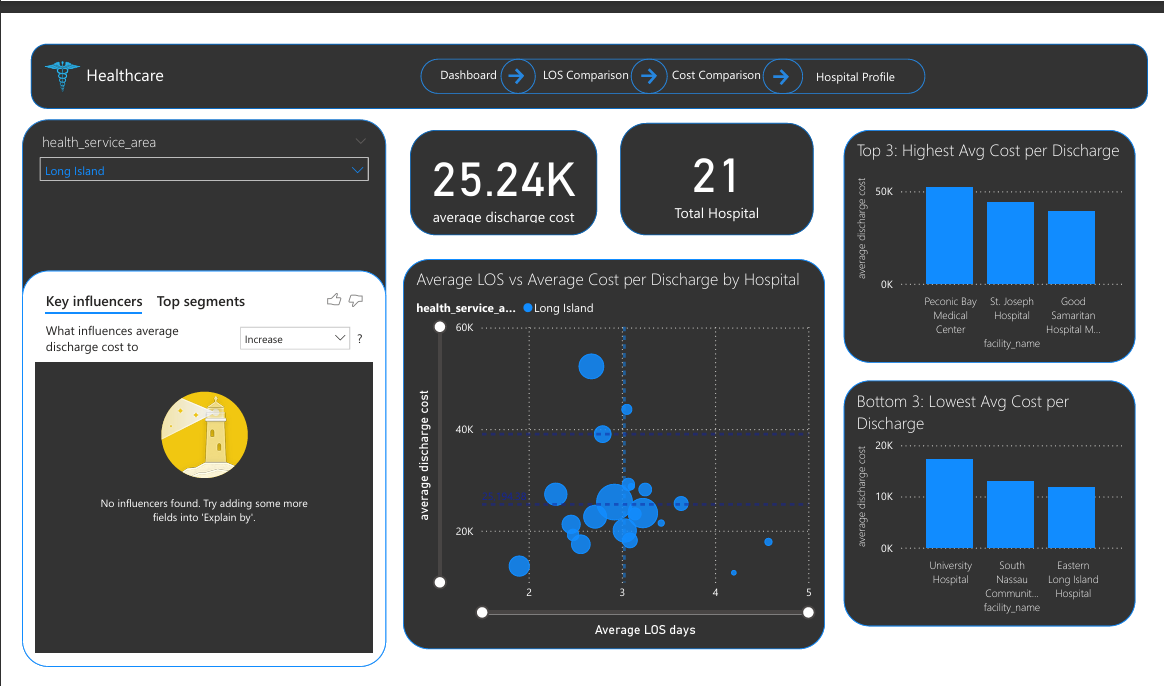

This screenshot's page, from the dashboard's own definition file:
{"tool":"powerbi","page":{"name":"Cost Comparison","canvas":[1280,720],"ordinal":2},"visuals":[{"type":"columnChart","title":"Top 3: Highest Avg Cost per Discharge","fields":{"Category":["hospital_inpatient_discharges_totalhipreplacement.facility_name"],"Y":["measure.average discharge cost"]},"box":[934.3,108.6,331.4,265.7],"z":0},{"type":"shape","box":[10,11,1270,74],"z":1000},{"type":"textbox","box":[68.2,28.2,131.2,38.8],"z":2000},{"type":"textbox","box":[448,32,123,45],"z":3000},{"type":"textbox","box":[571,32,140,40],"z":4000},{"type":"textbox","box":[718.8,32,141.6,40],"z":5000},{"type":"textbox","box":[876.7,34.2,141.7,40],"z":6000},{"type":"actionButton","box":[453,28,131,40],"z":7000},{"type":"actionButton","box":[544,28,190,40],"z":8000},{"type":"actionButton","box":[691.7,28.3,196.7,40],"z":9000},{"type":"actionButton","box":[841.7,28.3,185,40],"z":10000},{"type":"actionButton","box":[548.5,35,39.6,26.2],"z":11000},{"type":"actionButton","box":[699.5,35.3,39.5,25.8],"z":12000},{"type":"actionButton","box":[848.9,35.8,39.5,25.8],"z":13000},{"type":"slicer","fields":{"Values":["hospital_inpatient_discharges_totalhipreplacement.health_service_area"]},"box":[0,97.1,414.3,622.9],"z":14000},{"type":"image","box":[4.5,9.1,82.7,80],"z":15000},{"type":"keyDriversVisual","fields":{"Target":["measure.average discharge cost"],"ExplainBy":["hospital_inpatient_discharges_totalhipreplacement.Age Band","hospital_inpatient_discharges_totalhipreplacement.apr_risk_of_mortality","hospital_inpatient_discharges_totalhipreplacement.apr_severity_of_illness_description","hospital_inpatient_discharges_totalhipreplacement.health_service_area","hospital_inpatient_discharges_totalhipreplacement.ccs_diagnosis_description","surgical_program_size_summary.Surgical_program_size","hospital_inpatient_discharges_totalhipreplacement.gender","hospital_inpatient_discharges_totalhipreplacement.patient_disposition"]},"box":[0,268.6,414.3,451.4],"z":16000},{"type":"scatterChart","title":"Average LOS vs Average Cost per Discharge by Hospital","fields":{"X":["measure.Average LOS days"],"Category":["hospital_inpatient_discharges_totalhipreplacement.facility_name"],"Y":["measure.average discharge cost"],"Series":["hospital_inpatient_discharges_totalhipreplacement.health_service_area"],"Size":["Sum(hospital_inpatient_discharges_totalhipreplacement.total_charges)"]},"box":[432.9,255.7,480,444.3],"z":17000},{"type":"card","fields":{"Values":["measure.average discharge cost"]},"box":[441.4,108.6,212.9,120],"z":18000},{"type":"card","fields":{"Values":["measure.Total Hospital"]},"box":[680,101.4,220,127.1],"z":19000},{"type":"columnChart","title":"Bottom 3: Lowest Avg Cost per Discharge","fields":{"Category":["hospital_inpatient_discharges_totalhipreplacement.facility_name"],"Y":["measure.average discharge cost"]},"box":[934.3,394.3,331.4,280],"z":20000}]}

Visuals, with their boxes on the page's 1280x720 design canvas (x1, y1, x2, y2). These are canvas units, not pixel positions in the 1164x686 screenshot, which may show the page scaled, cropped or inside an application window:
"Top 3: Highest Avg Cost per Discharge" columnChart: rect(934, 109, 1266, 374)
shape: rect(10, 11, 1280, 85)
textbox: rect(68, 28, 199, 67)
textbox: rect(448, 32, 571, 77)
textbox: rect(571, 32, 711, 72)
textbox: rect(719, 32, 860, 72)
textbox: rect(877, 34, 1018, 74)
actionButton: rect(453, 28, 584, 68)
actionButton: rect(544, 28, 734, 68)
actionButton: rect(692, 28, 888, 68)
actionButton: rect(842, 28, 1027, 68)
actionButton: rect(548, 35, 588, 61)
actionButton: rect(700, 35, 739, 61)
actionButton: rect(849, 36, 888, 62)
slicer - hospital_inpatient_discharges_totalhipreplacement.health_service_area: rect(0, 97, 414, 720)
image: rect(4, 9, 87, 89)
keyDriversVisual - measure.average discharge cost x hospital_inpatient_discharges_totalhipreplacement.Age Band: rect(0, 269, 414, 720)
"Average LOS vs Average Cost per Discharge by Hospital" scatterChart: rect(433, 256, 913, 700)
card - measure.average discharge cost: rect(441, 109, 654, 229)
card - measure.Total Hospital: rect(680, 101, 900, 228)
"Bottom 3: Lowest Avg Cost per Discharge" columnChart: rect(934, 394, 1266, 674)
